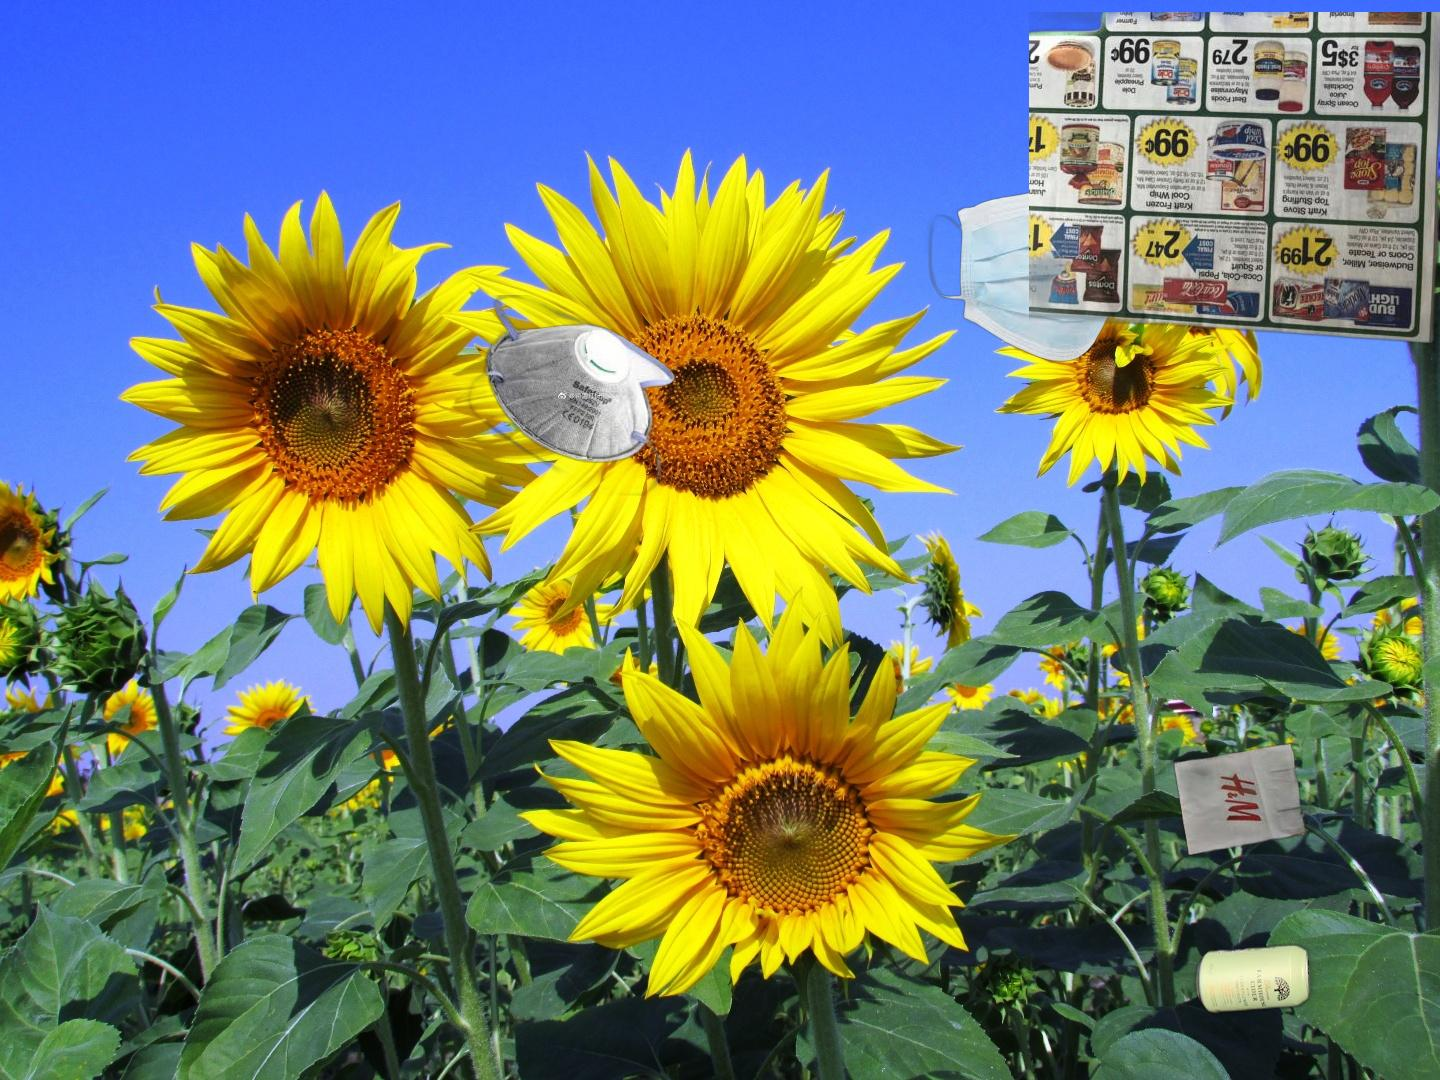metal-cans: (1191, 938, 1318, 1020)
paper: (1030, 12, 1440, 347)
paper-bag: (1164, 611, 1440, 861)
trash: (463, 295, 678, 496), (925, 179, 1146, 364)
